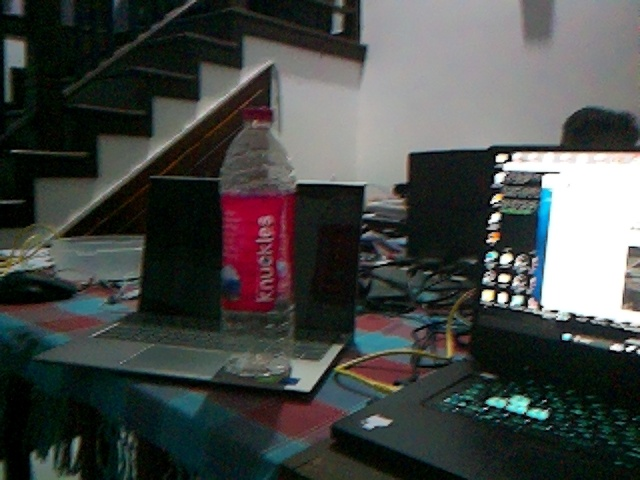bottle: (213, 105, 300, 382)
